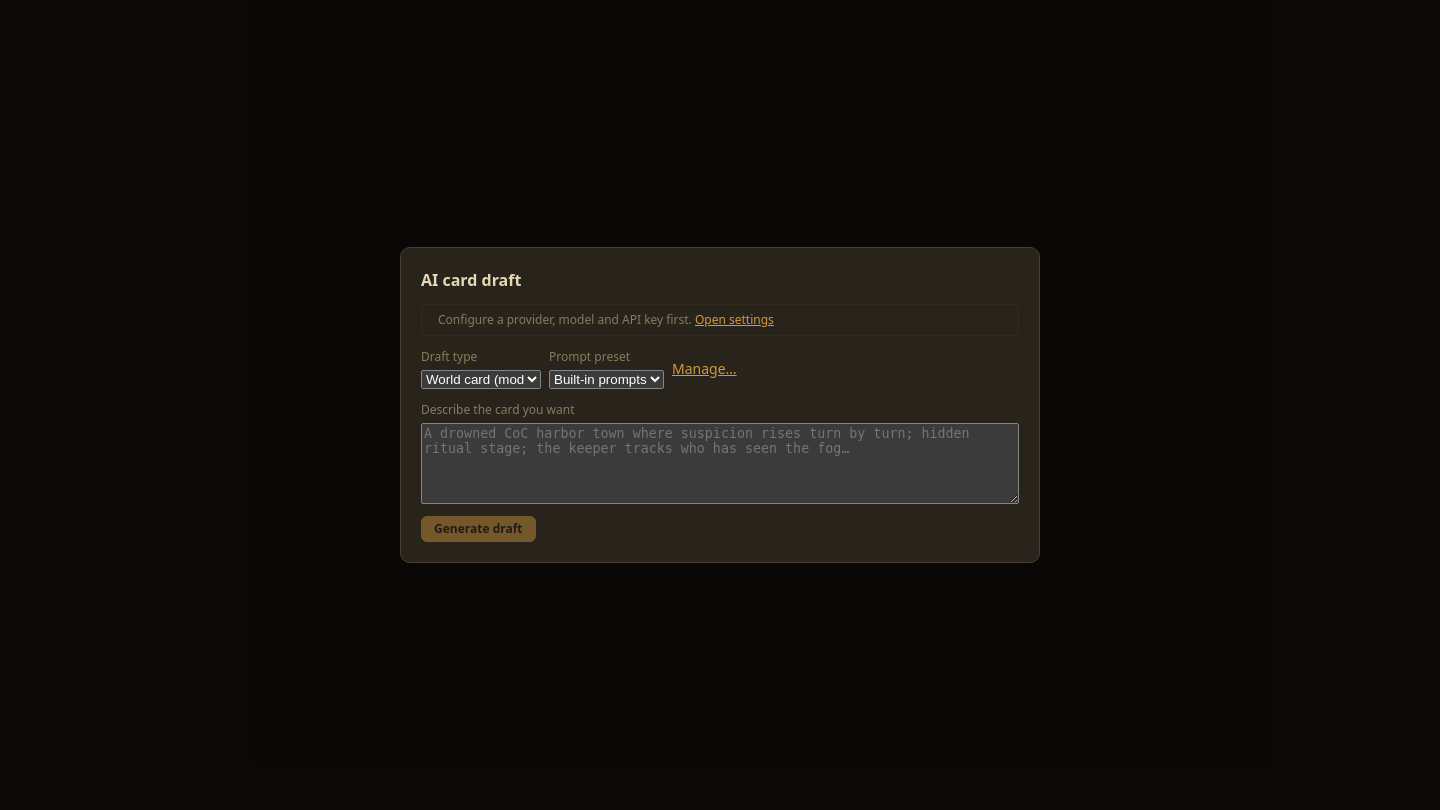
it: AiPanel preset switching › warns when deepseek-v4-pro is paired with a preset temperature
Expected: the text "degrades its thinking mode" is not shown
Select "热预设" in the dropdown labelled "Prompt preset": (606, 380) [549,370,664,389]
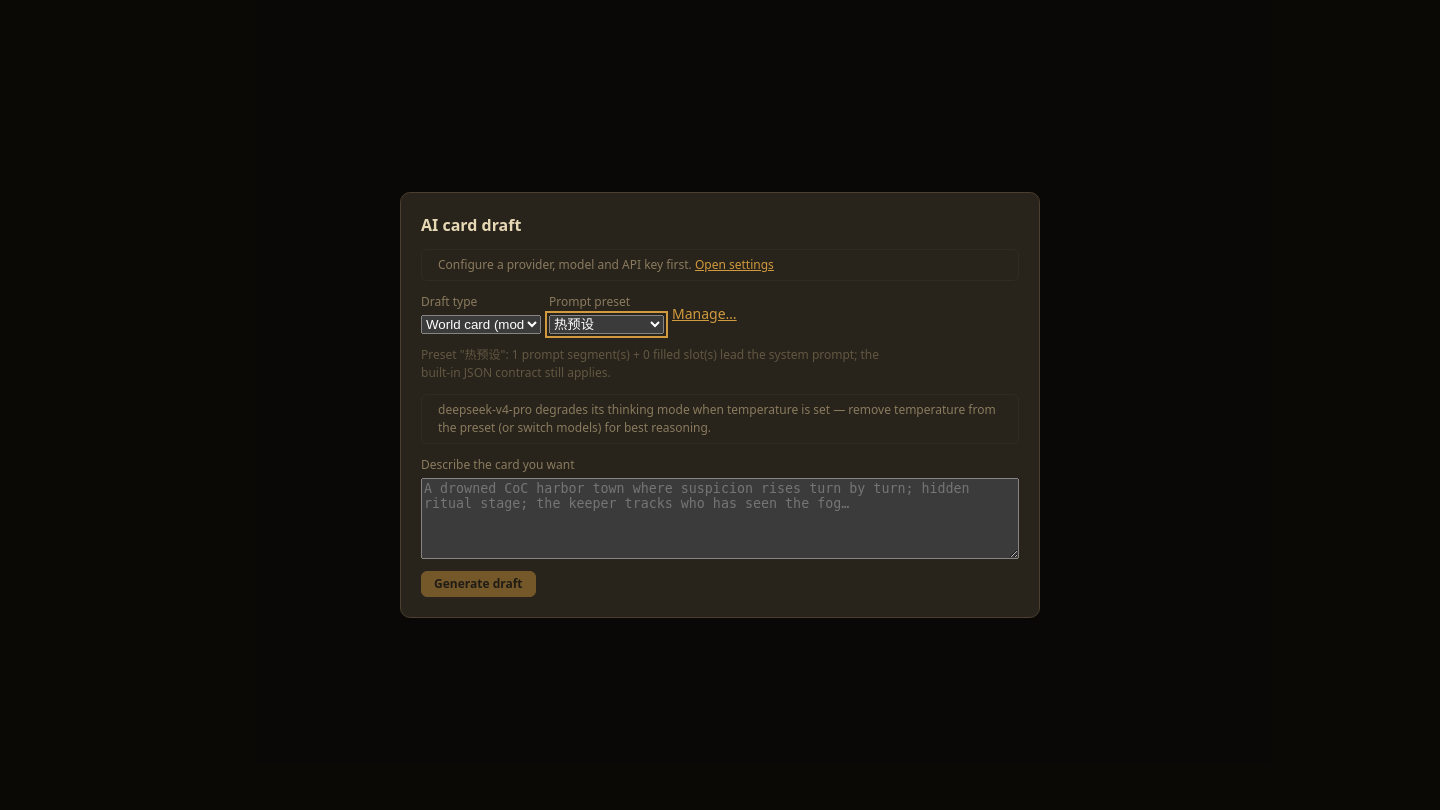
Expected: the text "degrades its thinking mode" is shown, [438,401,996,436]
